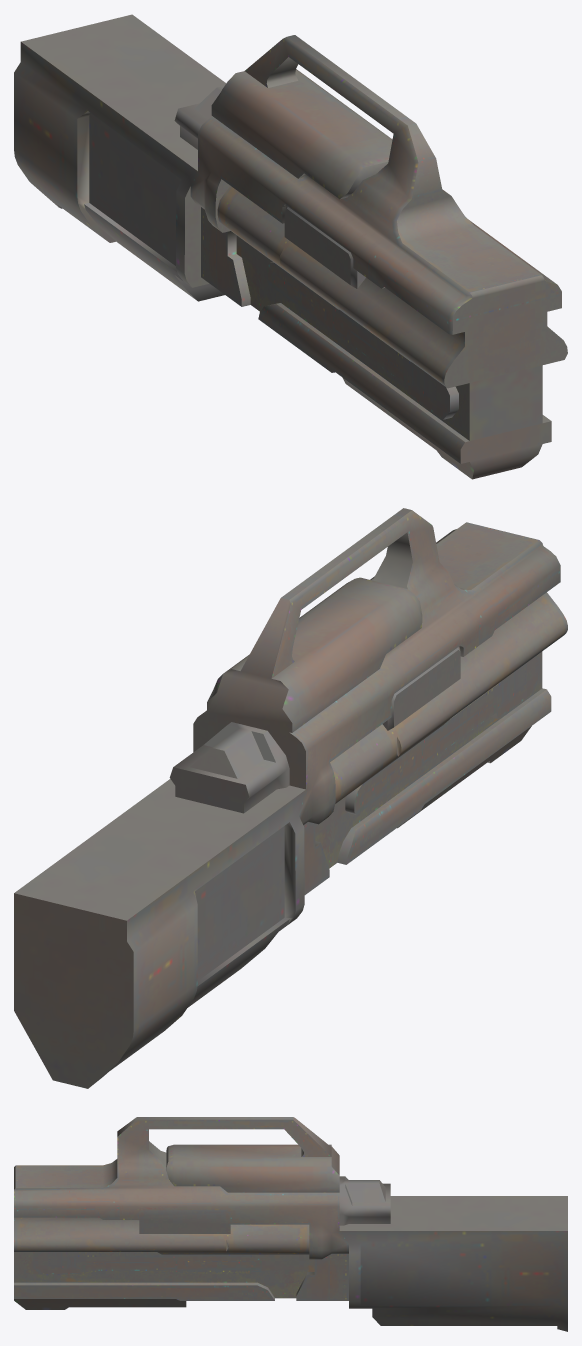
Rendered from body4.obj.
The picture shows the model from 3 angles, top to bottom: view 1: azimuth 30°, elevation 25°; view 2: azimuth 150°, elevation 25°; view 3: azimuth 270°, elevation 25°; orthographic projection. The views are drawn at different scales.
Visible parts, largest first — view 1: body4; view 2: body4; view 3: body4.
Part boxes in pixels (left/top/right/bottom): body4: left=14, top=14, right=567, bottom=479; body4: left=14, top=508, right=567, bottom=1088; body4: left=14, top=1117, right=567, bottom=1331.
Bounding box in the file's own units: 9.12 × 22.67 × 54.59.
